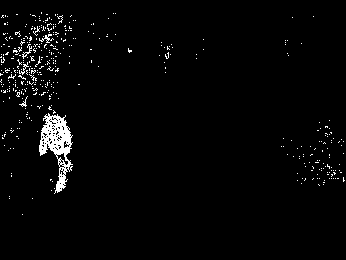person: (37, 106, 76, 194)
